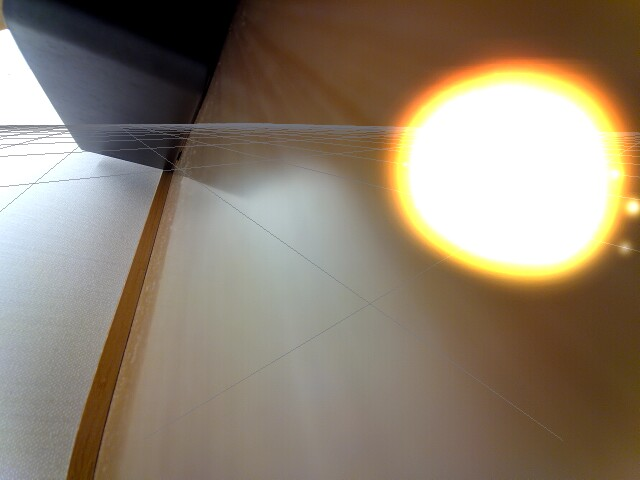firebig: (373, 42, 627, 291)
